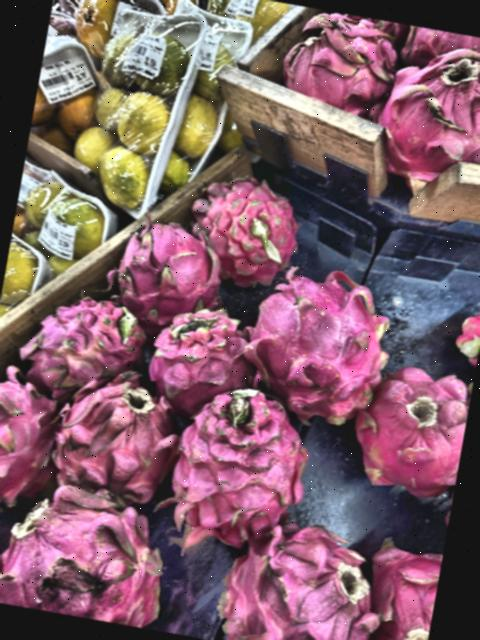buah-naga-matang: (230, 252, 398, 426), (0, 479, 184, 631), (160, 375, 308, 539), (212, 512, 382, 640), (336, 348, 475, 498), (42, 362, 184, 504), (370, 30, 480, 179), (11, 278, 146, 394), (129, 298, 261, 405), (103, 213, 229, 324), (278, 7, 394, 119), (186, 177, 298, 279), (0, 368, 69, 511), (350, 536, 443, 640)
